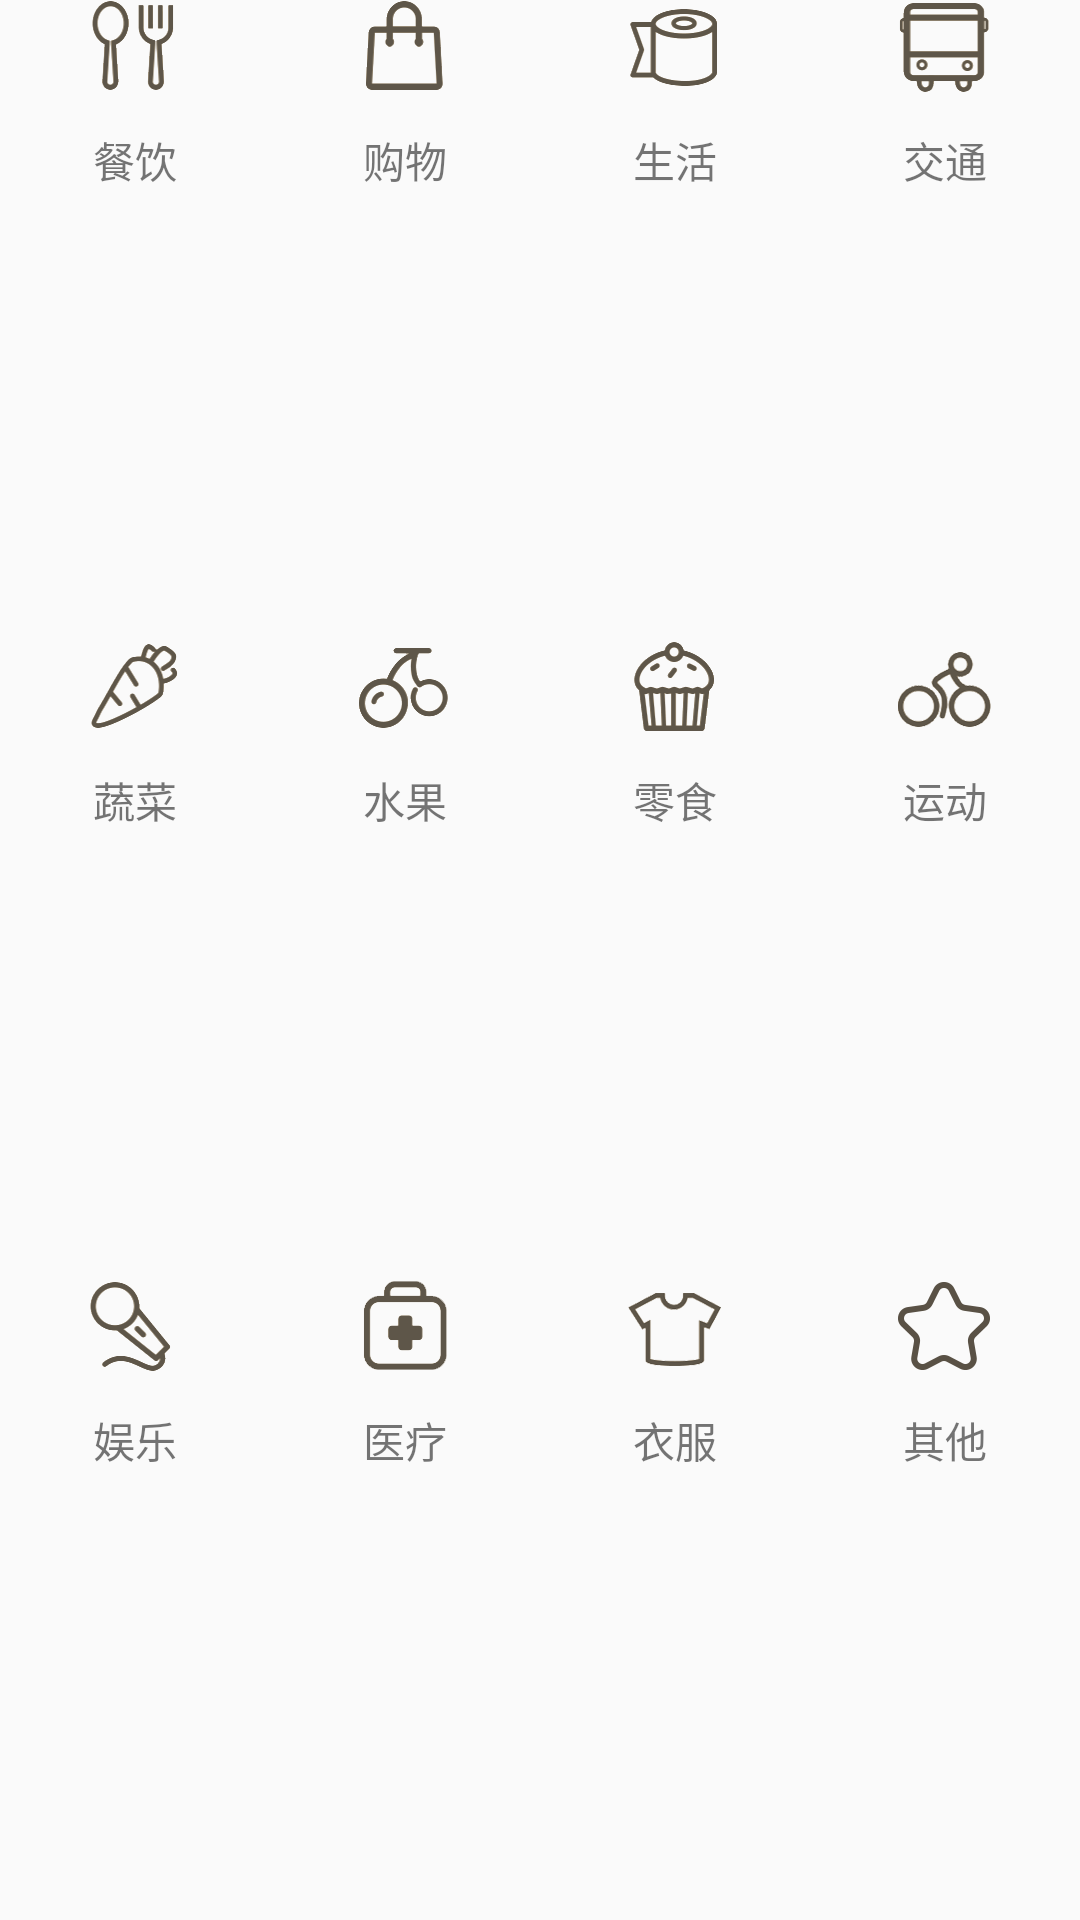

Screen size 1080px×1920px. Icon name, then its box in pixels as [x1,y1,x2,y2]:
canyin unselict: [92,1,173,90]
gouwu unselict: [366,1,443,90]
jiaotong unselict: [900,3,989,92]
lingshi selict: [634,642,714,731]
qita unselict: [898,1282,990,1370]
shenghuo unselict: [630,9,717,86]
shucai unselict: [91,644,177,728]
shuiguo unselict: [359,648,448,728]
yifu unselict: [628,1293,721,1366]
yiliao unselict: [364,1281,447,1370]
yule unselict: [90,1282,170,1371]
yundong unselict: [898,652,991,727]
